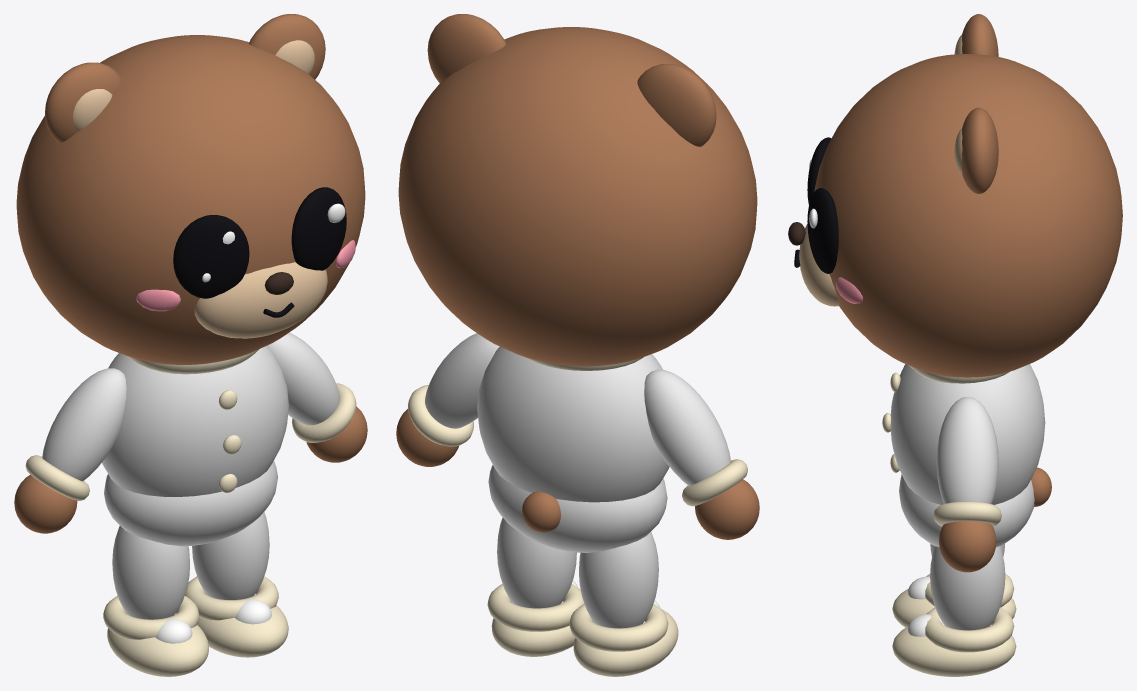
File: Bramble_BearCub.fbx
3 views of the same model, side by side, from view 1: azimuth 30°, elevation 25°; view 2: azimuth 150°, elevation 25°; view 3: azimuth 270°, elevation 25° (orthographic). The views are drawn at different scales.
Visible parts, largest first — view 1: Bramble_BearCub_Head, Bramble_BearCub_UpperTorso, Bramble_BearCub_LowerTorso, Bramble_BearCub_RightUpperArm, Bramble_BearCub_RightUpperLeg, Bramble_BearCub_LeftUpperLeg, Bramble_BearCub_LeftUpperArm, Bramble_BearCub_RightFoot, Bramble_BearCub_LeftFoot, Bramble_BearCub_RightHand, Bramble_BearCub_LeftHand; view 2: Bramble_BearCub_Head, Bramble_BearCub_UpperTorso, Bramble_BearCub_RightUpperLeg, Bramble_BearCub_LowerTorso, Bramble_BearCub_RightUpperArm, Bramble_BearCub_LeftUpperLeg, Bramble_BearCub_LeftUpperArm, Bramble_BearCub_RightFoot, Bramble_BearCub_RightHand, Bramble_BearCub_LeftFoot, Bramble_BearCub_LeftHand; view 3: Bramble_BearCub_Head, Bramble_BearCub_UpperTorso, Bramble_BearCub_LeftUpperArm, Bramble_BearCub_LeftUpperLeg, Bramble_BearCub_LeftFoot, Bramble_BearCub_LowerTorso, Bramble_BearCub_LeftHand, Bramble_BearCub_RightFoot.
Boxes of the visible parts, bbox=[...] form: Bramble_BearCub_Head: bbox=[16, 14, 365, 364]; Bramble_BearCub_UpperTorso: bbox=[102, 345, 288, 496]; Bramble_BearCub_LowerTorso: bbox=[104, 460, 277, 546]; Bramble_BearCub_RightUpperArm: bbox=[25, 368, 126, 500]; Bramble_BearCub_RightUpperLeg: bbox=[103, 525, 199, 639]; Bramble_BearCub_LeftUpperLeg: bbox=[185, 512, 278, 620]; Bramble_BearCub_LeftUpperArm: bbox=[267, 332, 356, 442]; Bramble_BearCub_RightFoot: bbox=[107, 613, 208, 676]; Bramble_BearCub_LeftFoot: bbox=[197, 594, 288, 657]; Bramble_BearCub_RightHand: bbox=[14, 474, 77, 533]; Bramble_BearCub_LeftHand: bbox=[306, 406, 367, 462]; Bramble_BearCub_Head: bbox=[398, 14, 757, 366]; Bramble_BearCub_UpperTorso: bbox=[477, 346, 669, 502]; Bramble_BearCub_RightUpperLeg: bbox=[569, 531, 668, 651]; Bramble_BearCub_LowerTorso: bbox=[488, 465, 667, 552]; Bramble_BearCub_RightUpperArm: bbox=[644, 369, 747, 506]; Bramble_BearCub_LeftUpperLeg: bbox=[487, 517, 584, 631]; Bramble_BearCub_LeftUpperArm: bbox=[408, 333, 499, 446]; Bramble_BearCub_RightFoot: bbox=[573, 600, 678, 676]; Bramble_BearCub_RightHand: bbox=[695, 479, 759, 539]; Bramble_BearCub_LeftFoot: bbox=[491, 580, 580, 656]; Bramble_BearCub_LeftHand: bbox=[396, 409, 458, 466]; Bramble_BearCub_Head: bbox=[788, 14, 1122, 377]; Bramble_BearCub_UpperTorso: bbox=[882, 364, 1045, 504]; Bramble_BearCub_LeftUpperArm: bbox=[933, 397, 1001, 526]; Bramble_BearCub_LeftUpperLeg: bbox=[925, 546, 1014, 652]; Bramble_BearCub_LeftFoot: bbox=[892, 614, 1016, 676]; Bramble_BearCub_LowerTorso: bbox=[899, 467, 1051, 547]; Bramble_BearCub_LeftHand: bbox=[939, 521, 996, 572]; Bramble_BearCub_RightFoot: bbox=[892, 576, 1016, 627].
Size of the model in its own units: 1.74 by 2.92 by 1.51.
